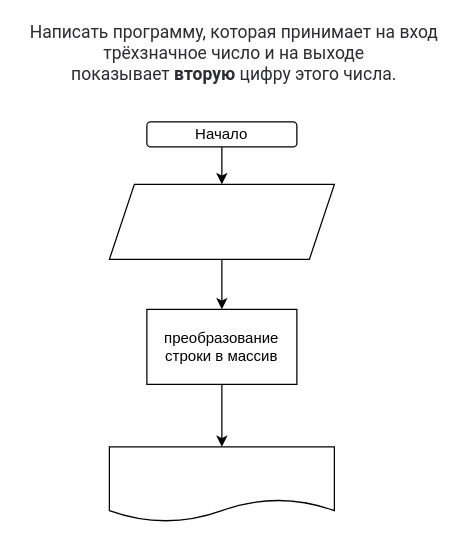
This 468x544 diagram has some shape labels left out. Each missing label, with the centre of its shape:
ввод массива из трех цифр: point (221, 221)
Вывод второго элемента из введенного массива: point (221, 484)
